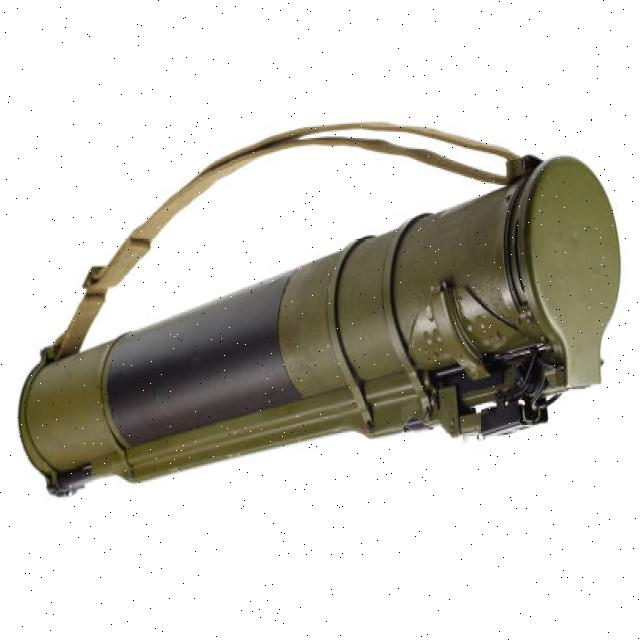bazooka: (18, 120, 629, 502)
